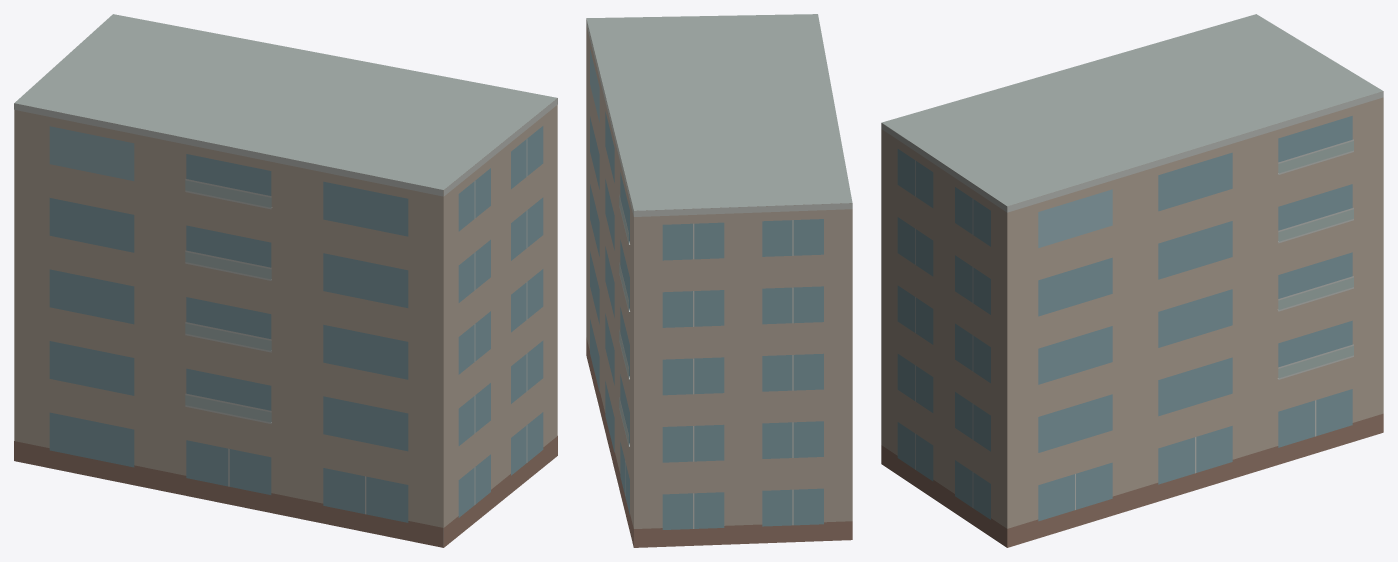
The model's file is survey-upis-32892101.glb.
3 renders of one model, left to right at view 1: azimuth 30°, elevation 25°; view 2: azimuth 150°, elevation 25°; view 3: azimuth 270°, elevation 25°, orthographic. The views are drawn at different scales.
Parts seen in each view (by area): view 1: survey-upis-32892101.tmp; view 2: survey-upis-32892101.tmp; view 3: survey-upis-32892101.tmp.
Part boxes in pixels (<box>): survey-upis-32892101.tmp: <box>14,14,557,547</box>; survey-upis-32892101.tmp: <box>586,14,852,547</box>; survey-upis-32892101.tmp: <box>881,14,1383,547</box>.
Size of the model in its own units: 16.02 by 13.25 by 17.66.
